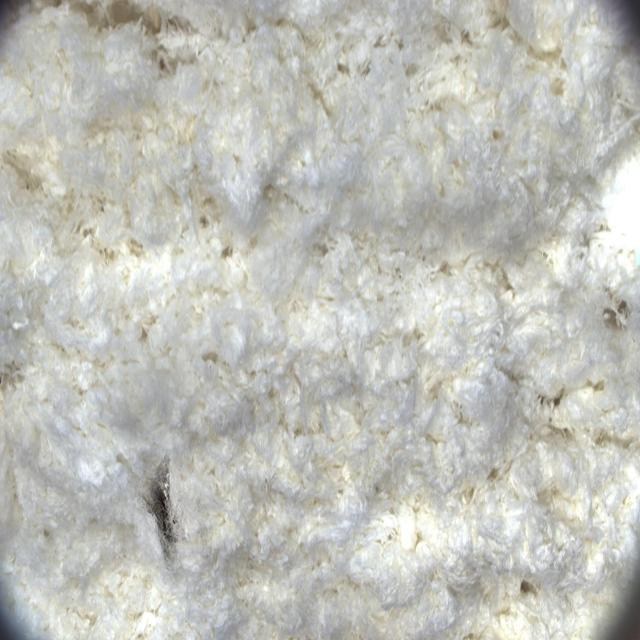dust: (102, 434, 220, 589)
